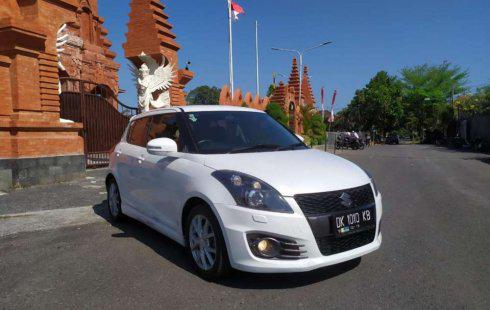plate: (334, 207, 376, 233)
